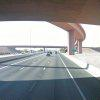Bridge: (8, 2, 87, 53)
